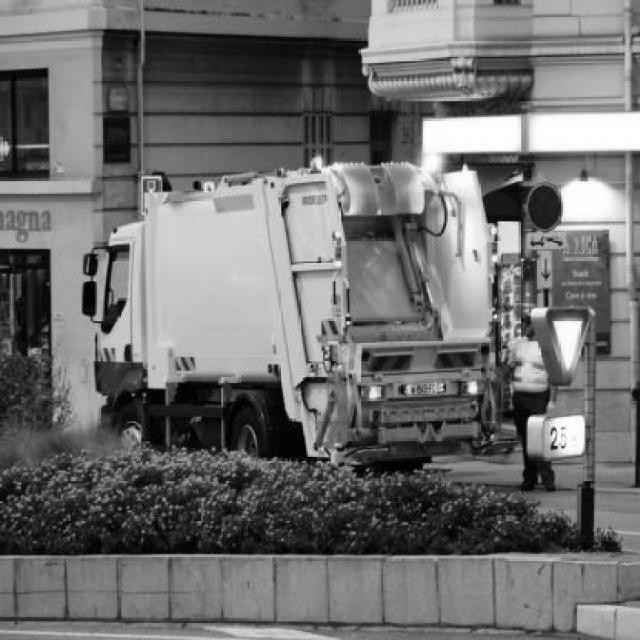Garbage Truck: (79, 154, 497, 469)
